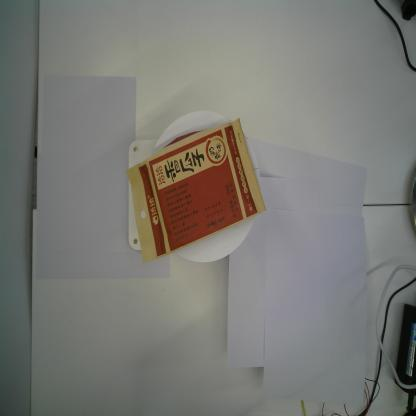Dried Food: (125, 115, 267, 266)
